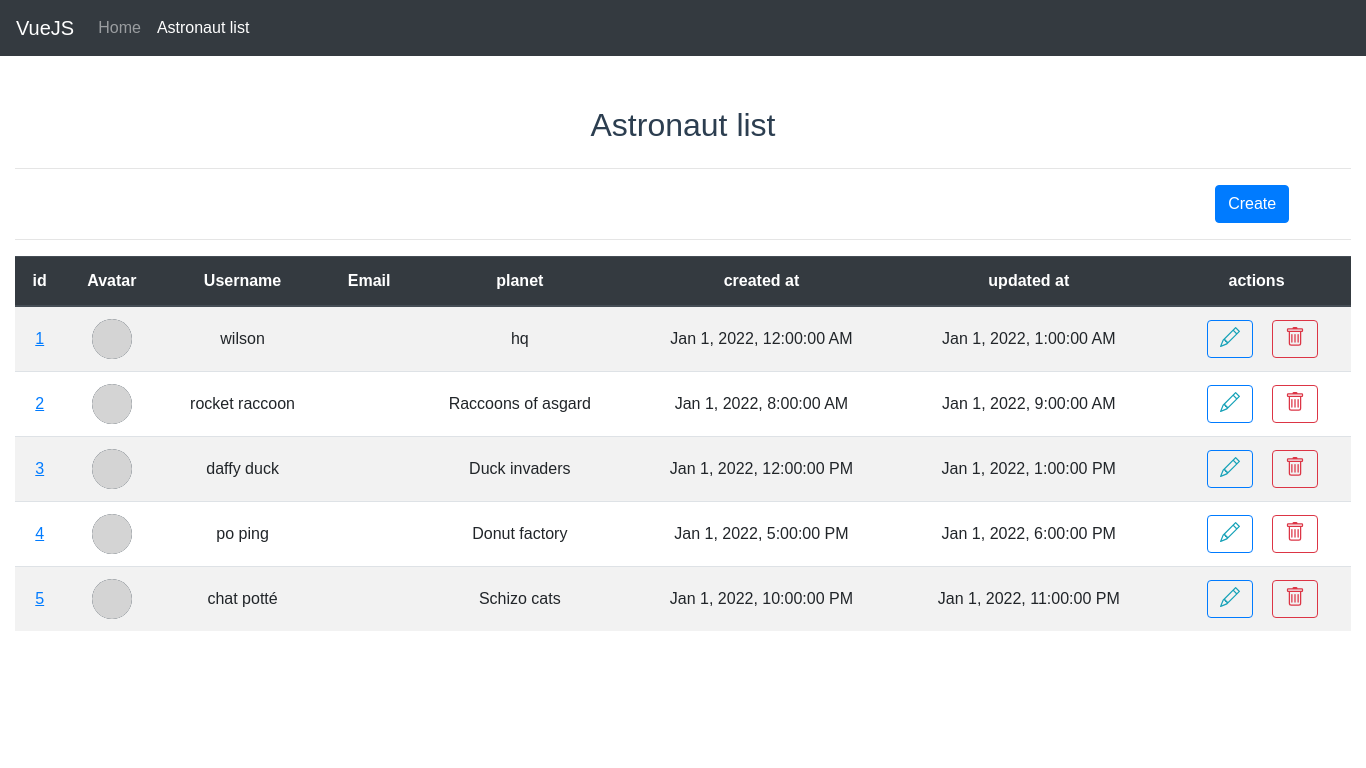
Test: Test navigation with navbar › Navigate to Home page from astronauts list
Click the link "Home": (120, 28) [98,19,141,36]
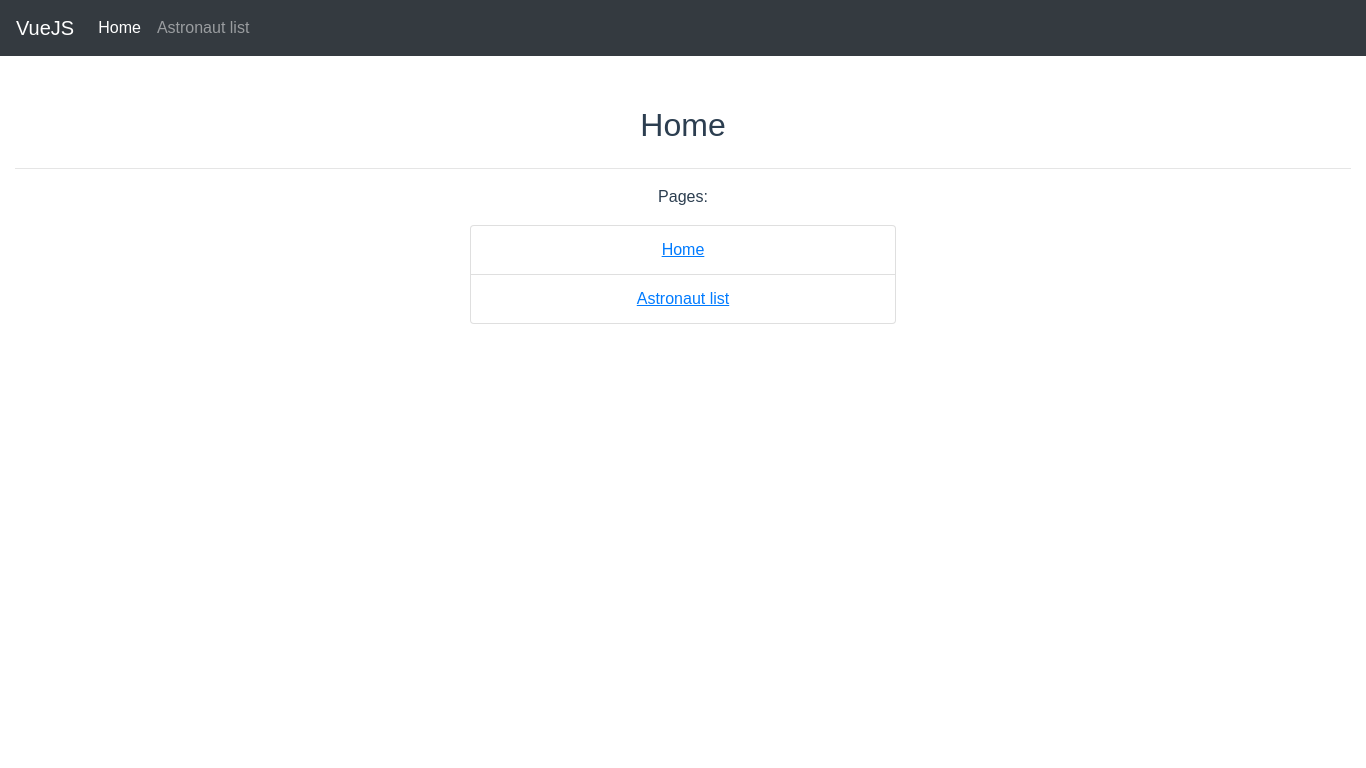
Expected: the heading "Home" is shown, [640,107,726,143]
Expected: the element with id "home" is shown, [470,107,895,324]
